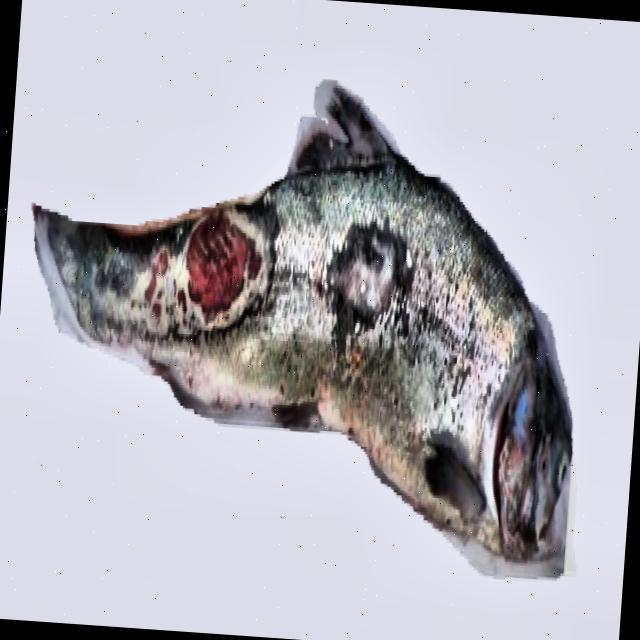wound: (171, 216, 260, 317), (144, 247, 169, 311)
